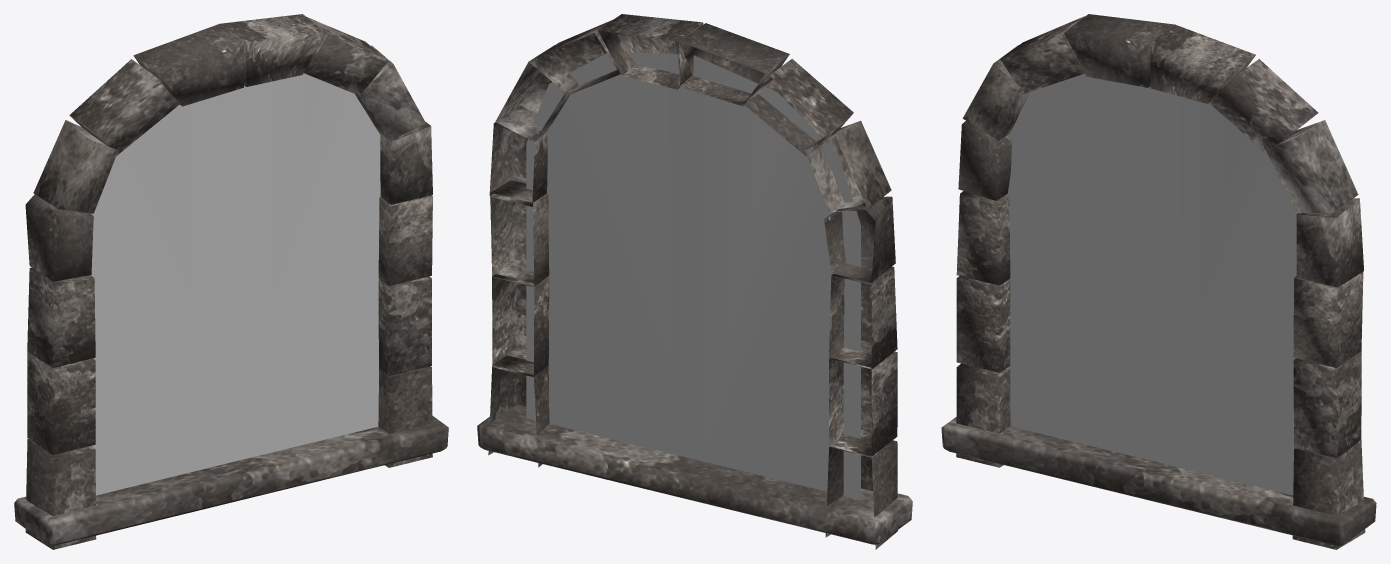
Rendered from DoorStoneLarge_1.fbx.
3 views of the same model, side by side, from view 1: azimuth 30°, elevation 25°; view 2: azimuth 150°, elevation 25°; view 3: azimuth 330°, elevation 25° (orthographic).
Parts seen in each view (by area): view 1: Mesh; view 2: Mesh; view 3: Mesh.
Part boxes in pixels (left/top/right/bottom): Mesh: left=14, top=14, right=448, bottom=549; Mesh: left=477, top=14, right=912, bottom=549; Mesh: left=941, top=14, right=1376, bottom=549.
Size of the model in its own units: 188 by 205 by 28.98.
